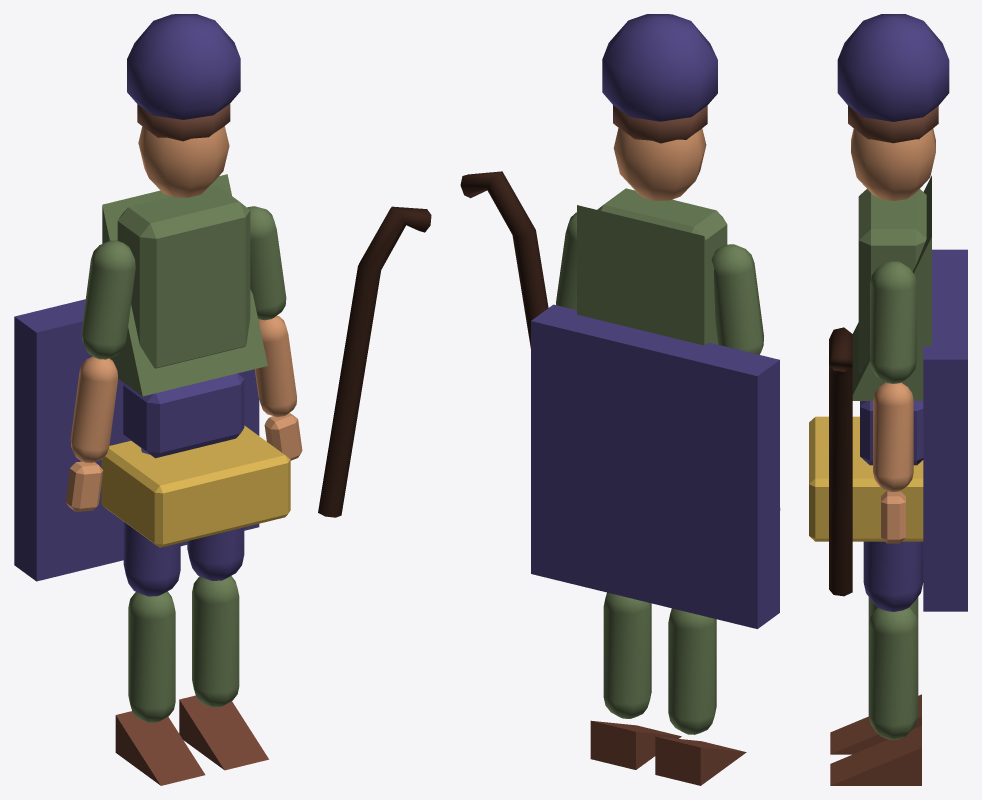
Rendered from adventurer.rustic.glb.
3 views of the same model, side by side, from view 1: azimuth 30°, elevation 25°; view 2: azimuth 150°, elevation 25°; view 3: azimuth 270°, elevation 25° (orthographic).
Parts seen in each view (by area): view 1: accessory.back, torso, accessory.waist, accessory.head, accessory.main-hand, pelvis, tunic, shin.right, shin.left, upper-arm.left, head, foot.left (+9 smaller); view 2: accessory.back, tunic, accessory.head, shin.left, shin.right, head, upper-arm.left, accessory.main-hand, torso, foot.left, foot.right, hair (+1 smaller); view 3: accessory.back, accessory.head, accessory.waist, accessory.main-hand, shin.right, torso, upper-arm.right, head, forearm.right, thigh.right, foot.right, tunic (+4 smaller).
Boxes of the visible parts, x1,y1,x2,y2 form: accessory.back: (14, 299, 259, 581); torso: (117, 185, 250, 368); accessory.waist: (101, 425, 290, 547); accessory.head: (127, 14, 240, 119); accessory.main-hand: (318, 206, 431, 517); pelvis: (123, 373, 244, 458); tunic: (102, 174, 267, 396); shin.right: (192, 576, 239, 707); shin.left: (128, 591, 175, 722); upper-arm.left: (81, 240, 135, 359); head: (138, 126, 229, 197); foot.left: (115, 711, 205, 785); accessory.back: (531, 304, 779, 628); tunic: (577, 205, 718, 345); accessory.head: (602, 14, 717, 121); shin.left: (668, 608, 716, 734); shin.right: (603, 592, 651, 718); head: (613, 128, 706, 200); upper-arm.left: (711, 244, 763, 354); accessory.main-hand: (460, 171, 548, 348); torso: (597, 188, 727, 258); foot.left: (655, 736, 746, 785); foot.right: (590, 720, 681, 769); hair: (613, 105, 707, 143); accessory.back: (923, 249, 967, 611); accessory.head: (837, 14, 949, 121); accessory.waist: (809, 416, 923, 541); accessory.main-hand: (829, 327, 852, 596); shin.right: (868, 608, 918, 739); torso: (858, 189, 926, 371); upper-arm.right: (870, 261, 916, 383); head: (851, 128, 935, 200); forearm.right: (873, 382, 913, 492); thigh.right: (863, 541, 923, 611); foot.right: (830, 726, 921, 785); tunic: (852, 175, 931, 400).
Bounding box in the file's own units: 1.66 × 3.29 × 0.64.
